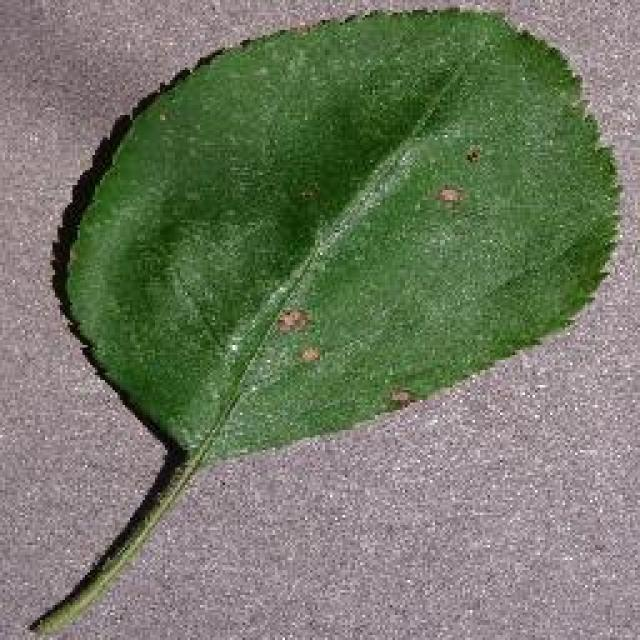black_rot: (271, 292, 319, 333), (433, 173, 469, 210), (299, 337, 325, 375), (384, 385, 420, 408)
